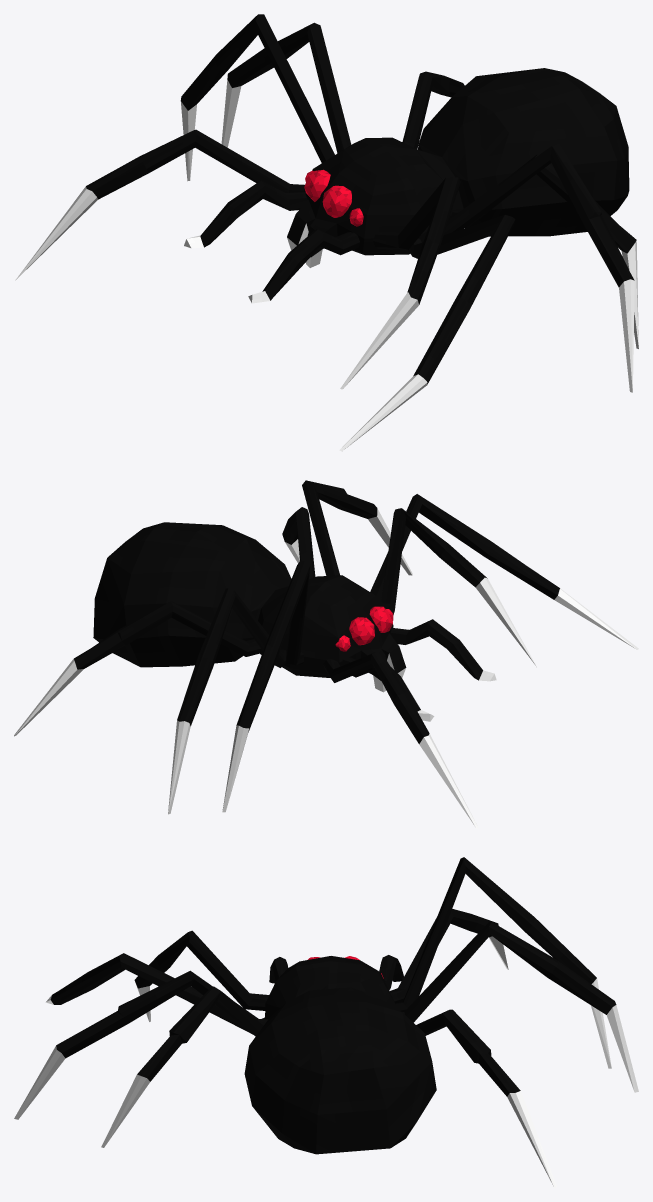
File: spiderWalking7.obj
The picture shows the model from 3 angles, top to bottom: view 1: azimuth 30°, elevation 25°; view 2: azimuth 150°, elevation 25°; view 3: azimuth 270°, elevation 25°; orthographic projection. The views are drawn at different scales.
Parts seen in each view (by area): view 1: Cube.001_Cube.002; view 2: Cube.001_Cube.002; view 3: Cube.001_Cube.002.
Boxes of the visible parts, x1,y1,x2,y2 form: Cube.001_Cube.002: (15,14,638,451); Cube.001_Cube.002: (14,480,638,828); Cube.001_Cube.002: (14,857,638,1187).
Size of the model in its own units: 29.26 by 12.75 by 34.27.
